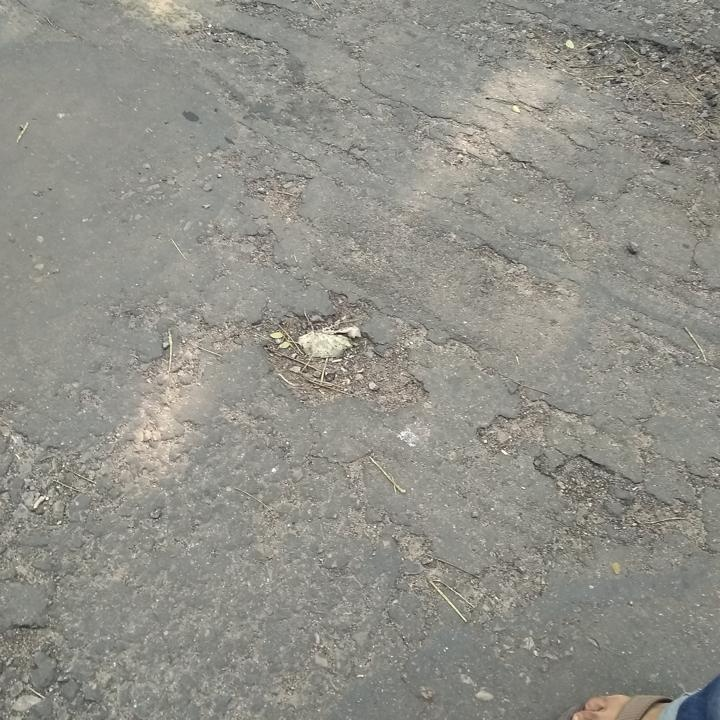pothole: (518, 25, 719, 140), (247, 305, 431, 419), (473, 394, 571, 448), (547, 451, 624, 503), (243, 168, 317, 222)
